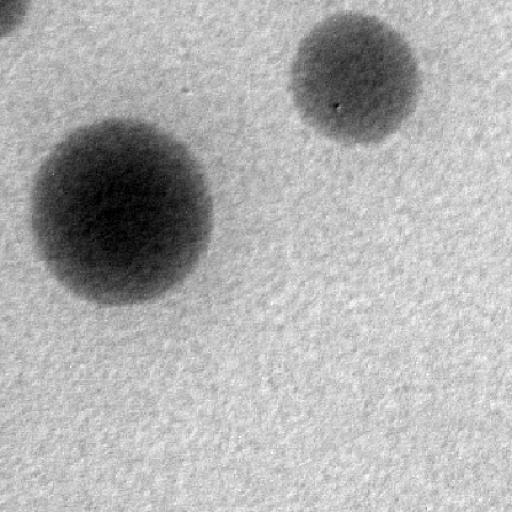Nanoparticles: (30, 119, 213, 301), (289, 12, 419, 144), (2, 2, 32, 48)
